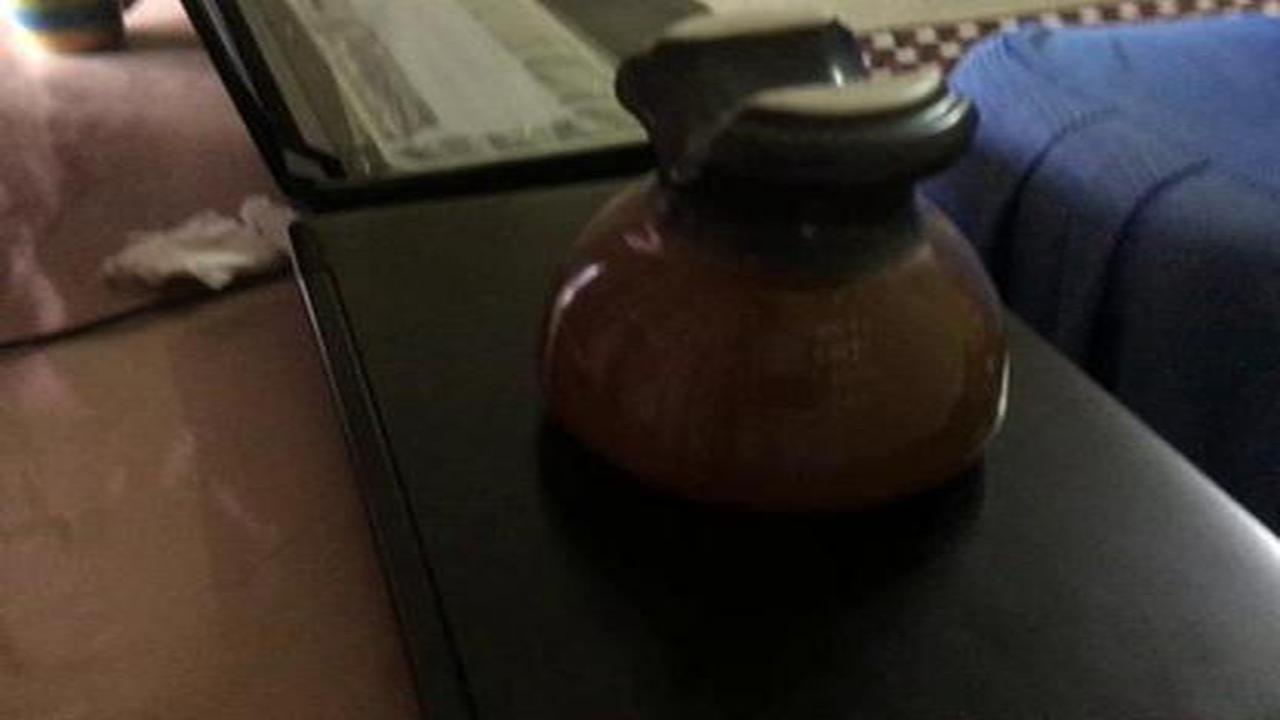insulator_pin: (536, 7, 1041, 542)
